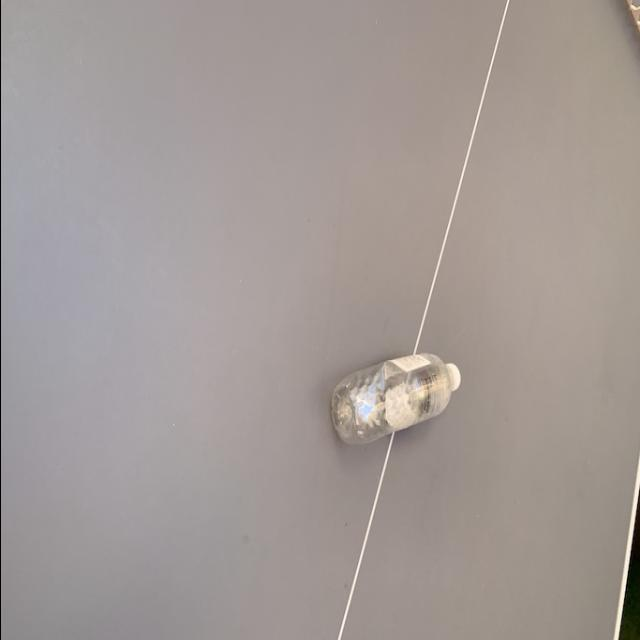PET: (329, 336, 467, 456)
